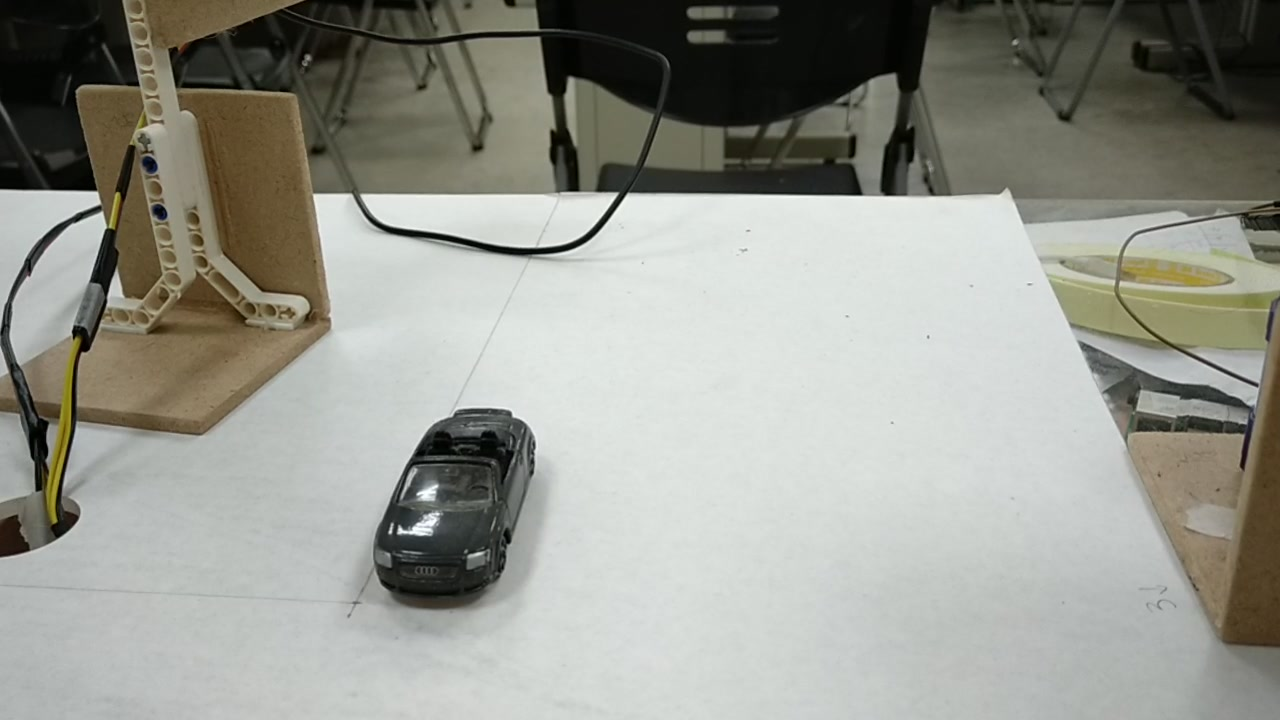car: (370, 412, 537, 602)
